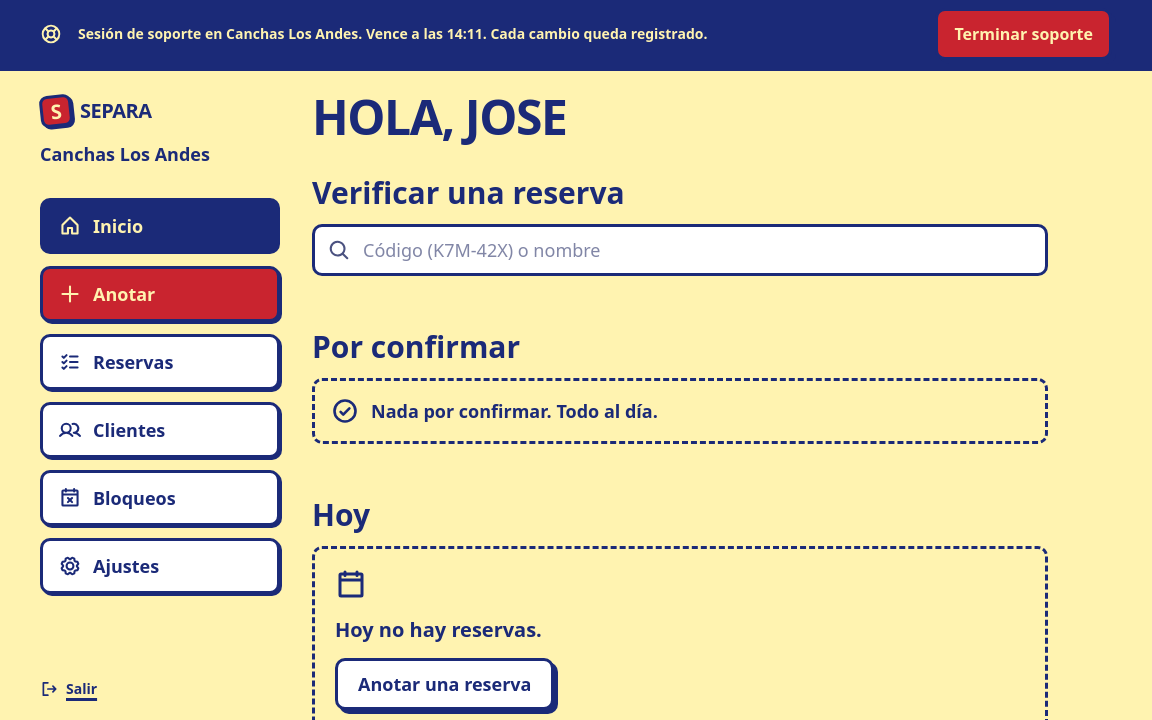
the support bar › ends the session on the server, forgets it, and goes back to the team area
Click the button "Terminar soporte" at x=1024, y=34, box [935,8,1112,60]
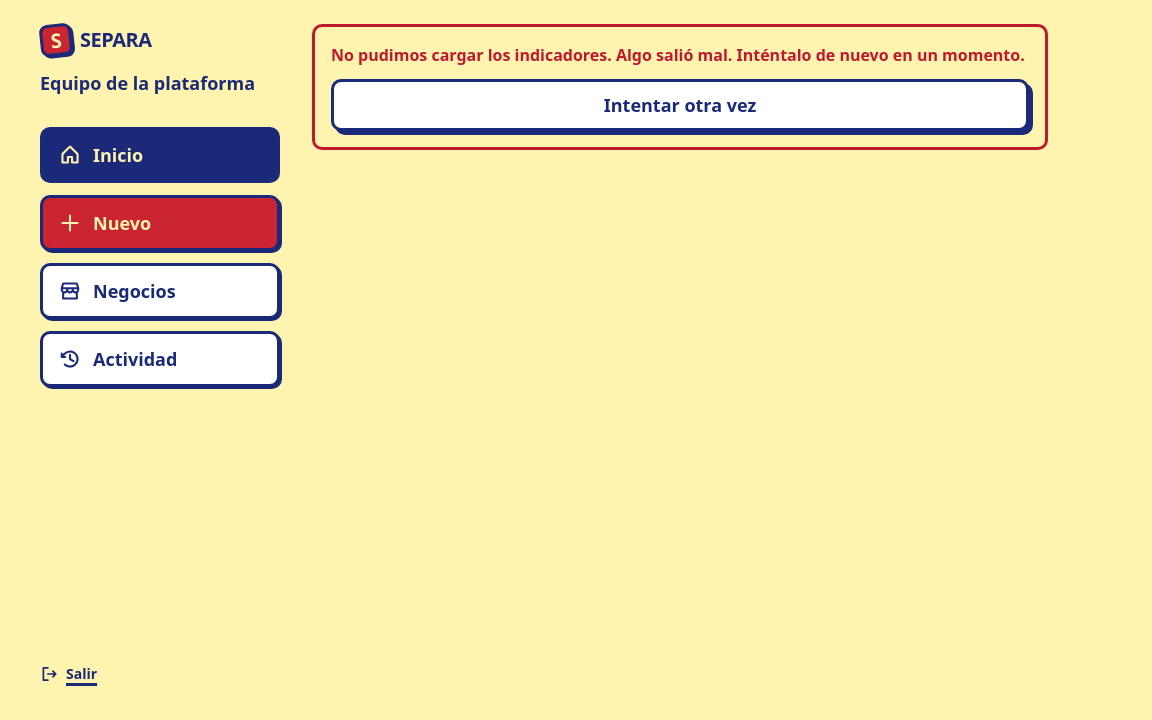
Now the text "Equipo de la plataforma" is shown, box [40,72,280,94]
